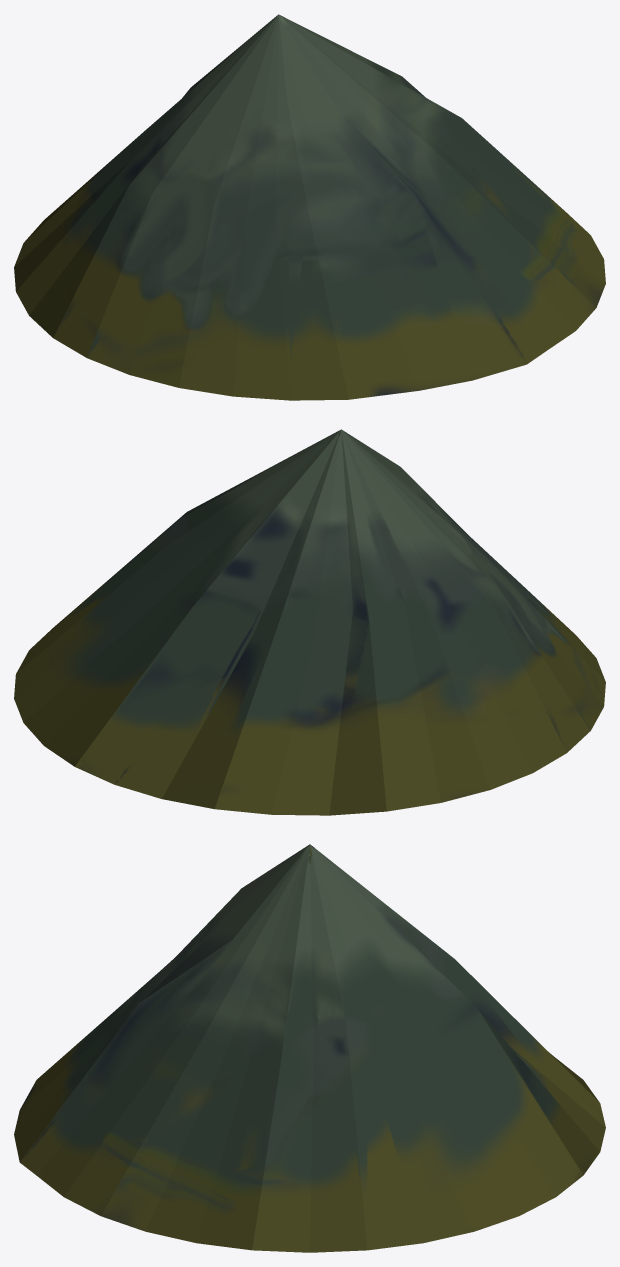
Rendered from mountain.obj.
3 renders of one model, top to bottom at view 1: azimuth 30°, elevation 25°; view 2: azimuth 150°, elevation 25°; view 3: azimuth 270°, elevation 25°, orthographic.
Visible parts, largest first — view 1: 円錐; view 2: 円錐; view 3: 円錐.
Part boxes in pixels (x1=…): 円錐: x1=14, y1=14, x2=605, y2=400; 円錐: x1=14, y1=429, x2=605, y2=815; 円錐: x1=14, y1=844, x2=605, y2=1252.
Bounding box in the file's own units: 4 × 2 × 4.
Materials: 1 (1 with a texture image).
